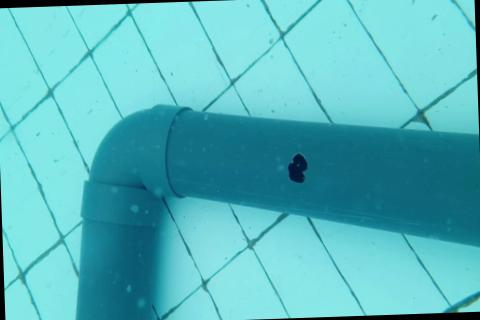kebocoran: (286, 149, 308, 186)
